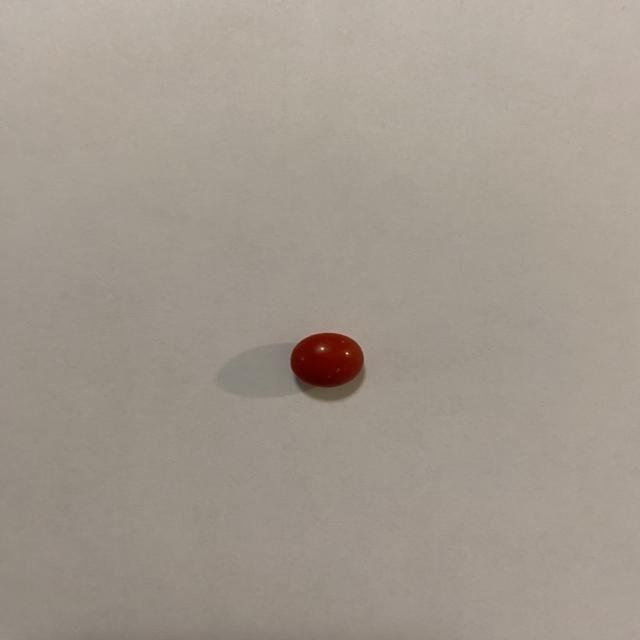smartie: (290, 333, 363, 387)
